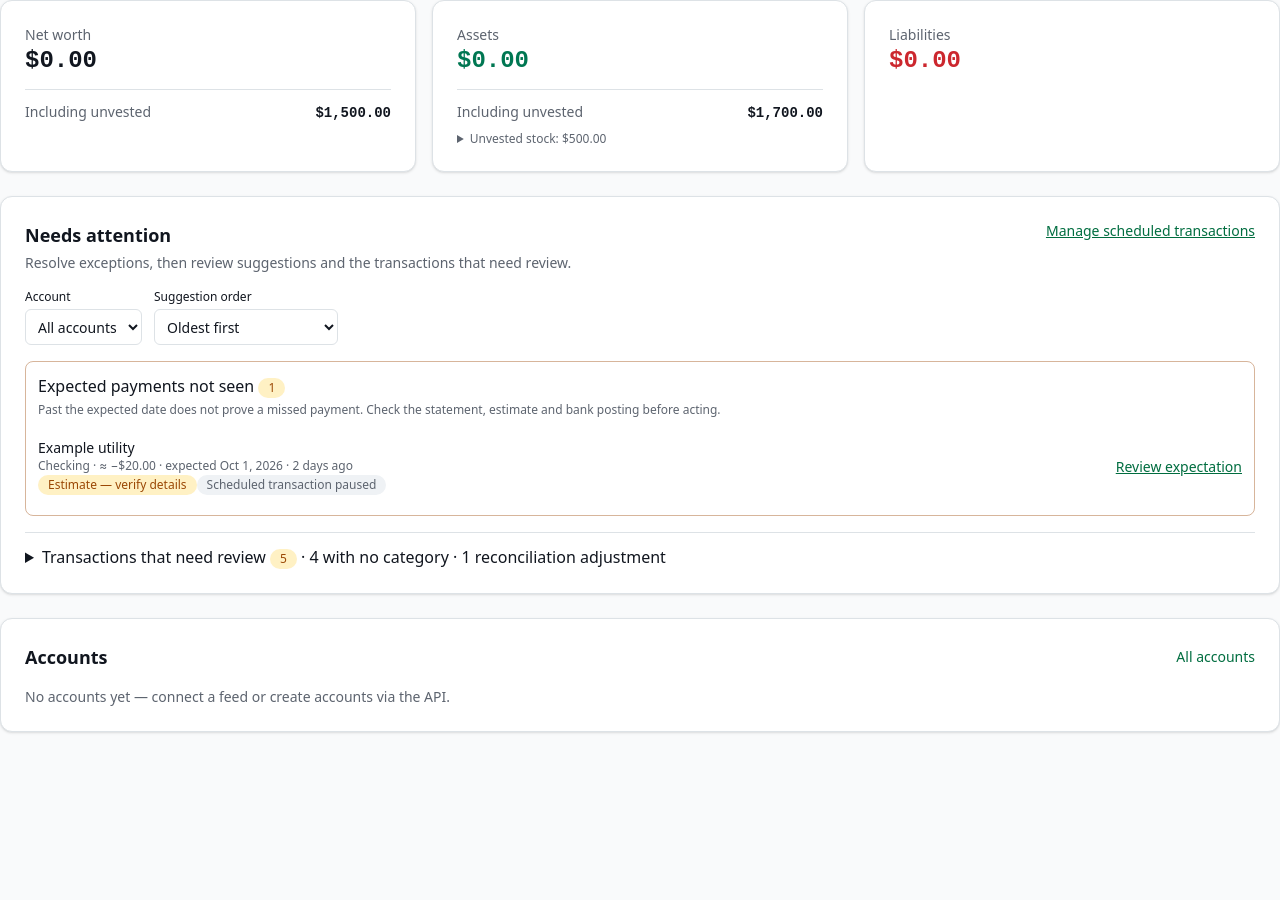
it: Dashboard — Needs attention › routes review totals and uncertain expectations to account registers
This screenshot has width=1280, height=900.
Expected: the text "Estimate — verify details" is shown, [38, 475, 197, 495]
Expected: the text "Scheduled transaction paused" is shown, [197, 475, 386, 495]
Click the heading "Transactions that need review" at (354, 558), box [42, 546, 666, 569]
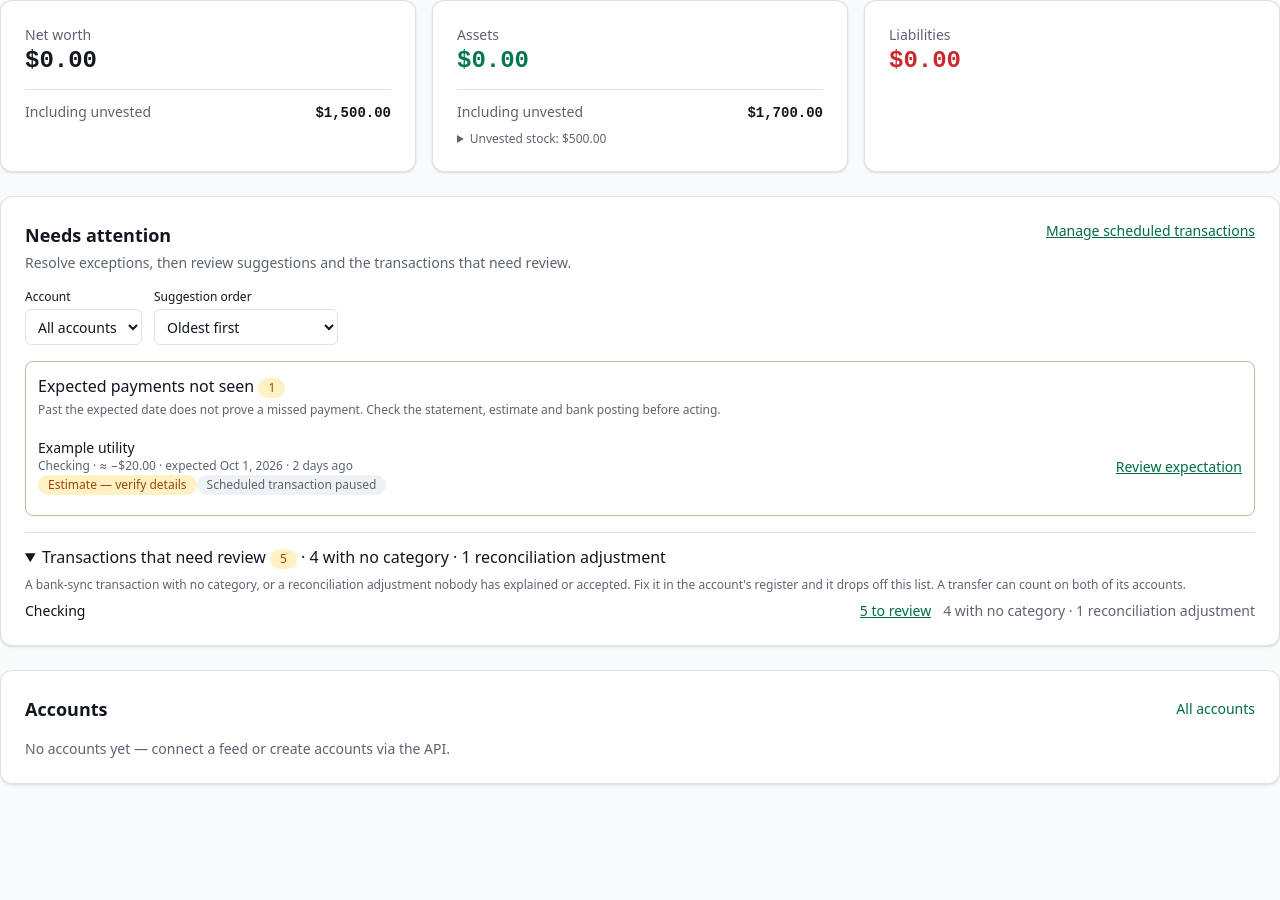
Now the text "4 with no category · 1 reconciliation adjustment" is shown, box [943, 601, 1255, 621]
